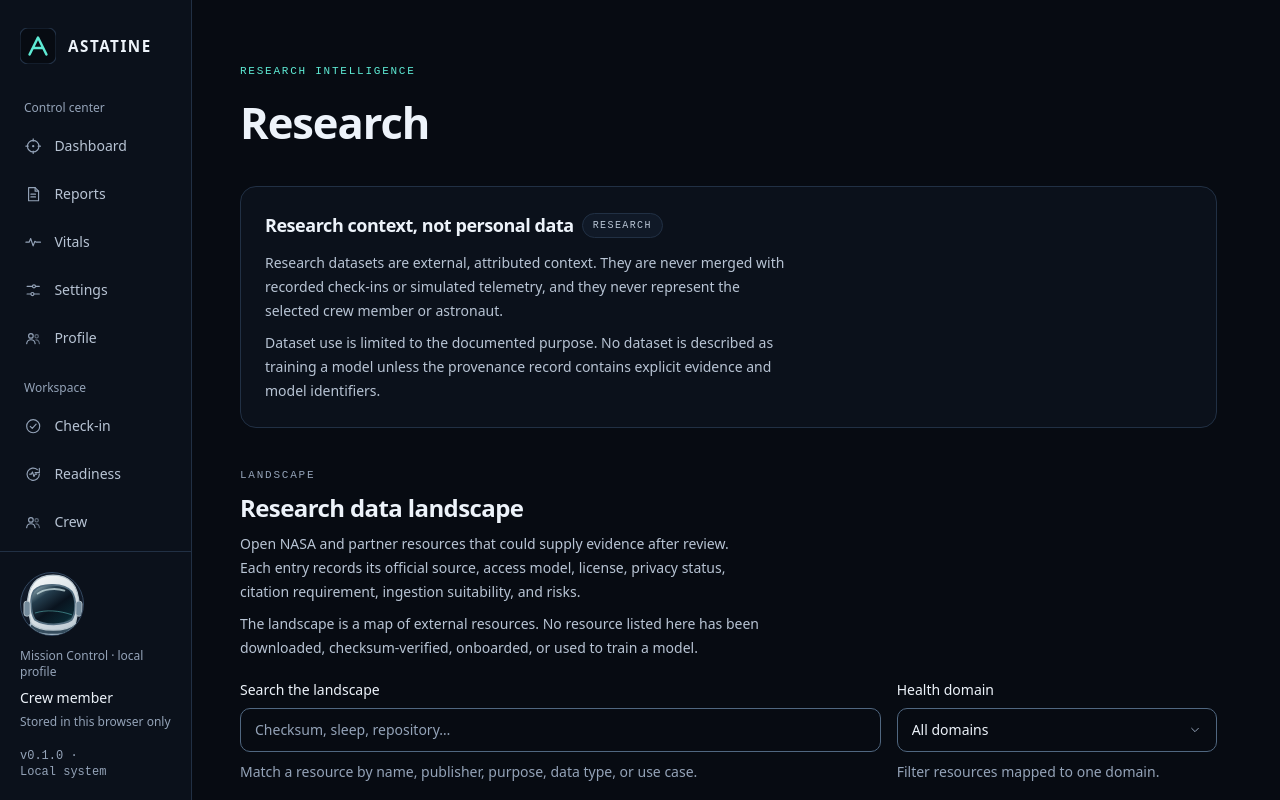
Test: ResearchPage › shows an empty result state when no landscape resource matches
Expected: the heading "Research" is shown, [240,92,429,152]
Type "no such resource" into the search field labelled "Search the landscape" at (560, 730), box [240,708,881,752]
(page scrolled)
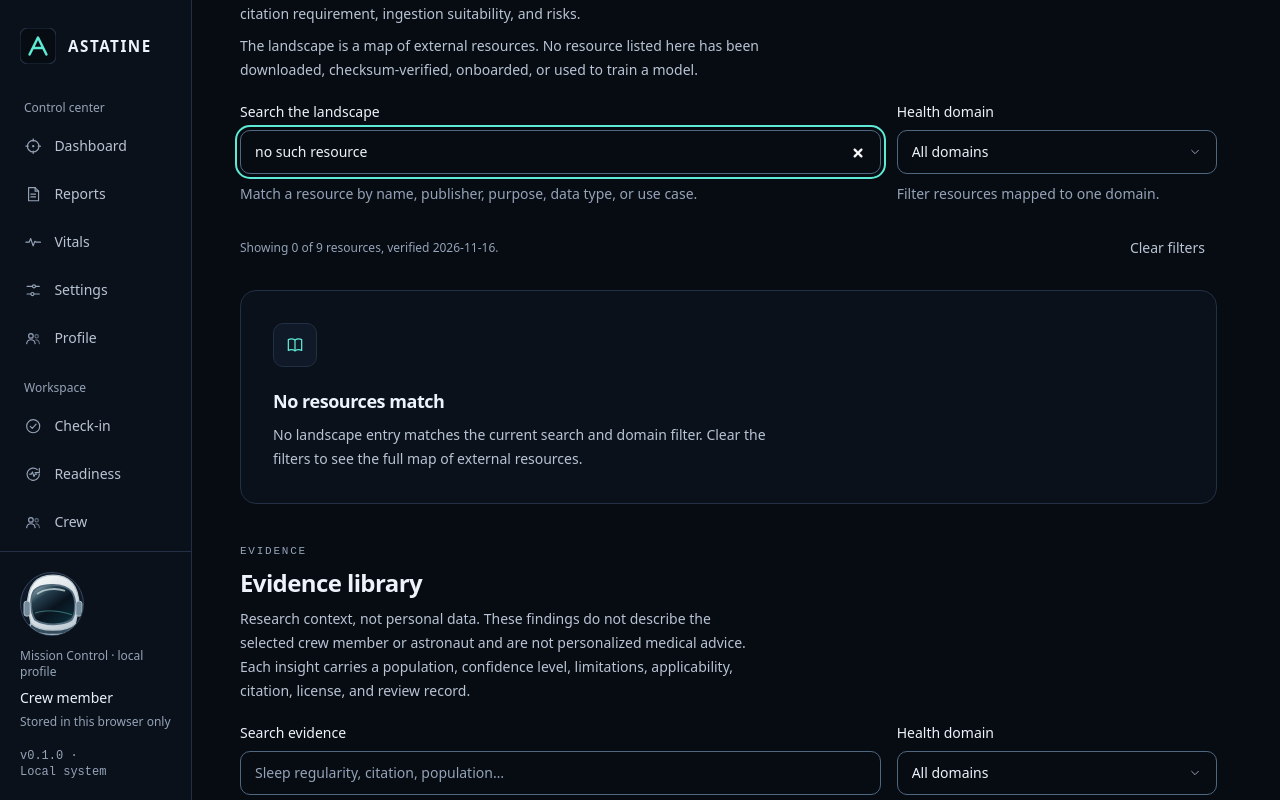
Now the heading "No resources match" is shown, box [273,389,444,413]
